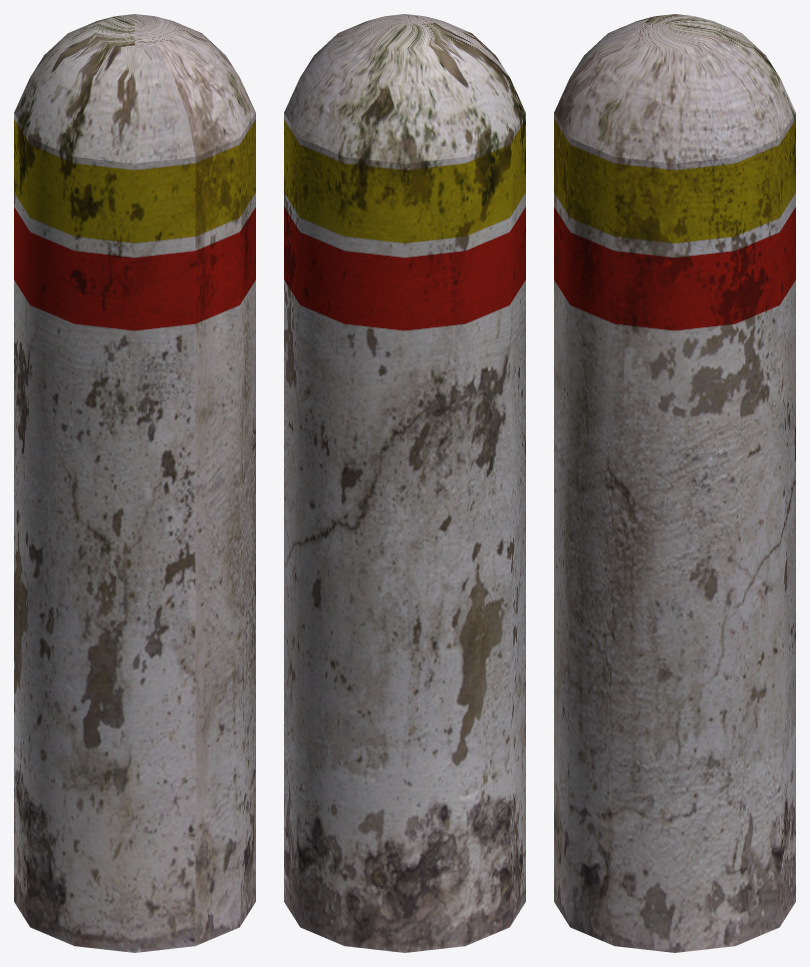
File: ConPole.FBX
The picture shows the model from 3 angles, left to right: view 1: azimuth 30°, elevation 25°; view 2: azimuth 150°, elevation 25°; view 3: azimuth 270°, elevation 25°; orthographic projection.
Parts seen in each view (by area): view 1: pole1; view 2: pole1; view 3: pole1.
Part boxes in pixels (<box>): pole1: <box>14,14,255,952</box>; pole1: <box>284,14,525,952</box>; pole1: <box>554,14,795,952</box>.
Size of the model in its own units: 0.25 by 1 by 0.25.
